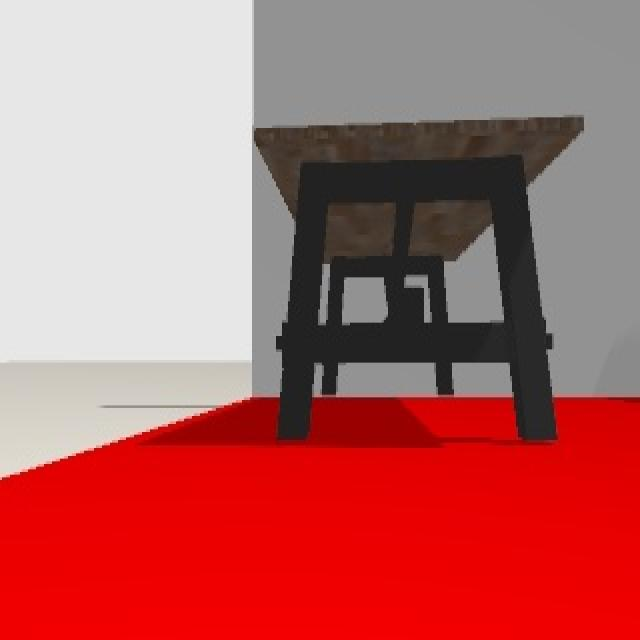dining: (253, 119, 585, 438)
